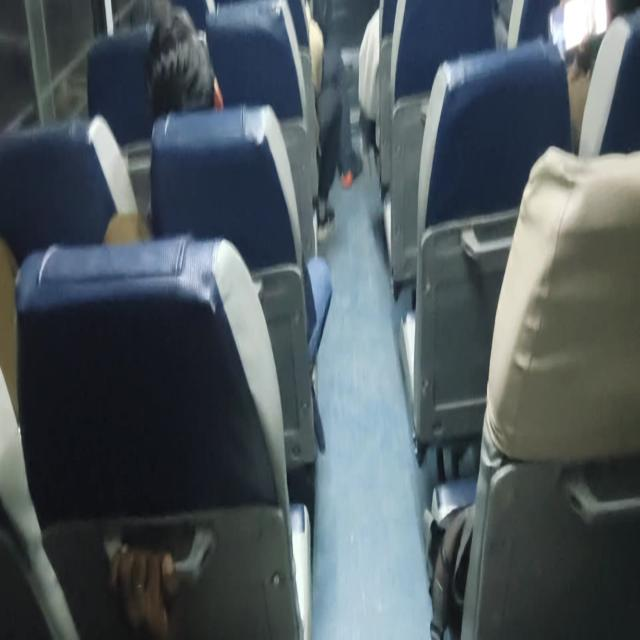person: (143, 5, 333, 453), (564, 0, 639, 152), (144, 5, 224, 121), (107, 539, 179, 637)
